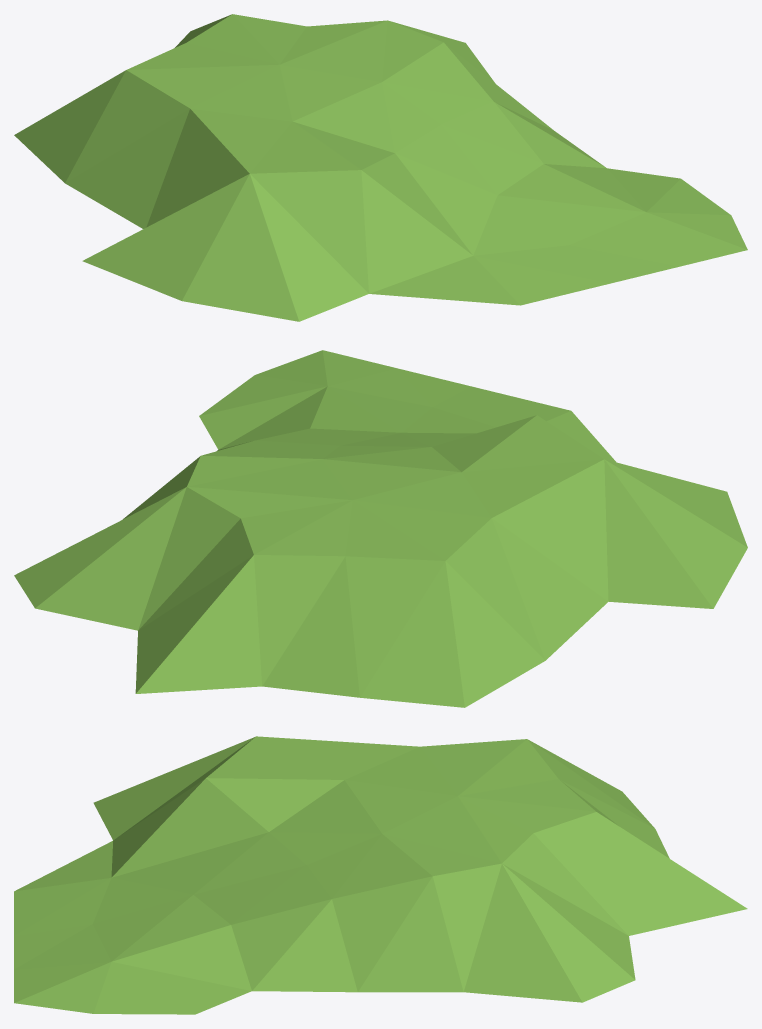
The model's file is MT_Mountain_S_c_17_LOD.fbx.
3 views of the same model, one above another, from view 1: azimuth 30°, elevation 25°; view 2: azimuth 150°, elevation 25°; view 3: azimuth 270°, elevation 25° (orthographic). The views are drawn at different scales.
Parts seen in each view (by area): view 1: MT_Mountain_S_c_17_LOD0; view 2: MT_Mountain_S_c_17_LOD0; view 3: MT_Mountain_S_c_17_LOD0.
Part boxes in pixels (left/top/right/bottom): MT_Mountain_S_c_17_LOD0: left=14, top=14, right=747, bottom=321; MT_Mountain_S_c_17_LOD0: left=14, top=350, right=747, bottom=707; MT_Mountain_S_c_17_LOD0: left=14, top=736, right=747, bottom=1014.
Size of what is drawn, in the model's own units: 1929 by 294 by 2276.
